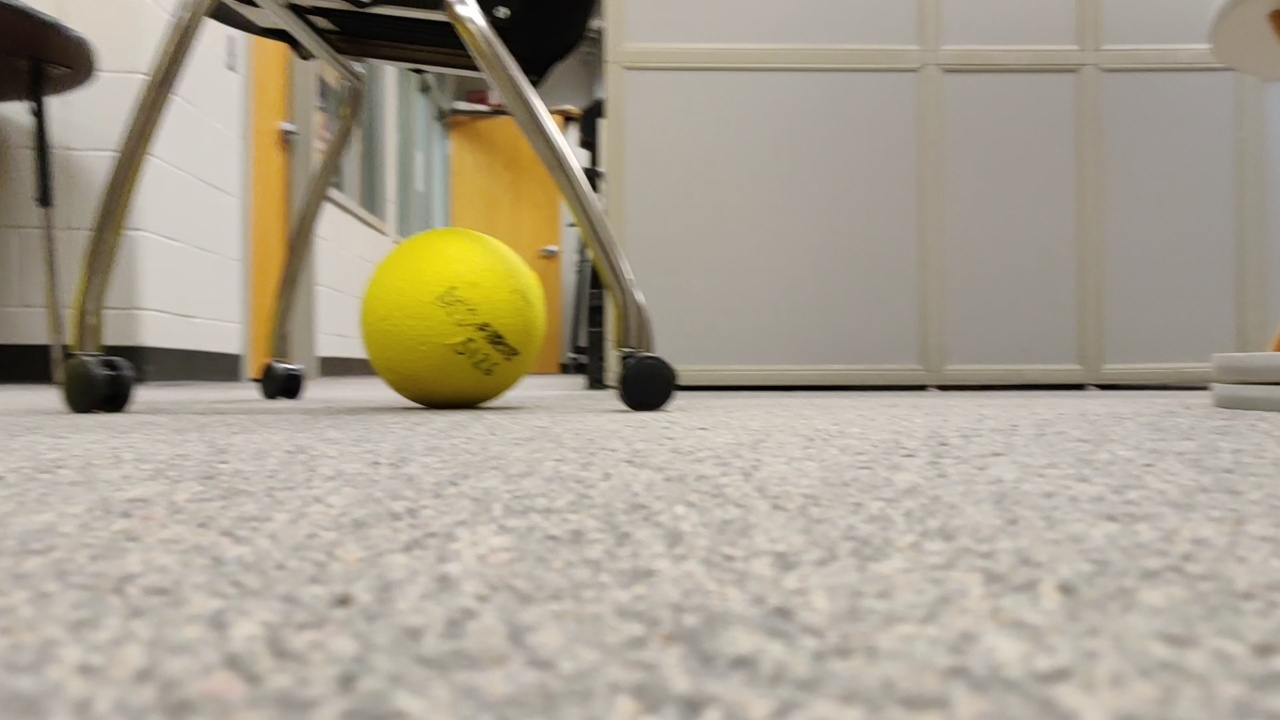Ball: (367, 227, 543, 404)
